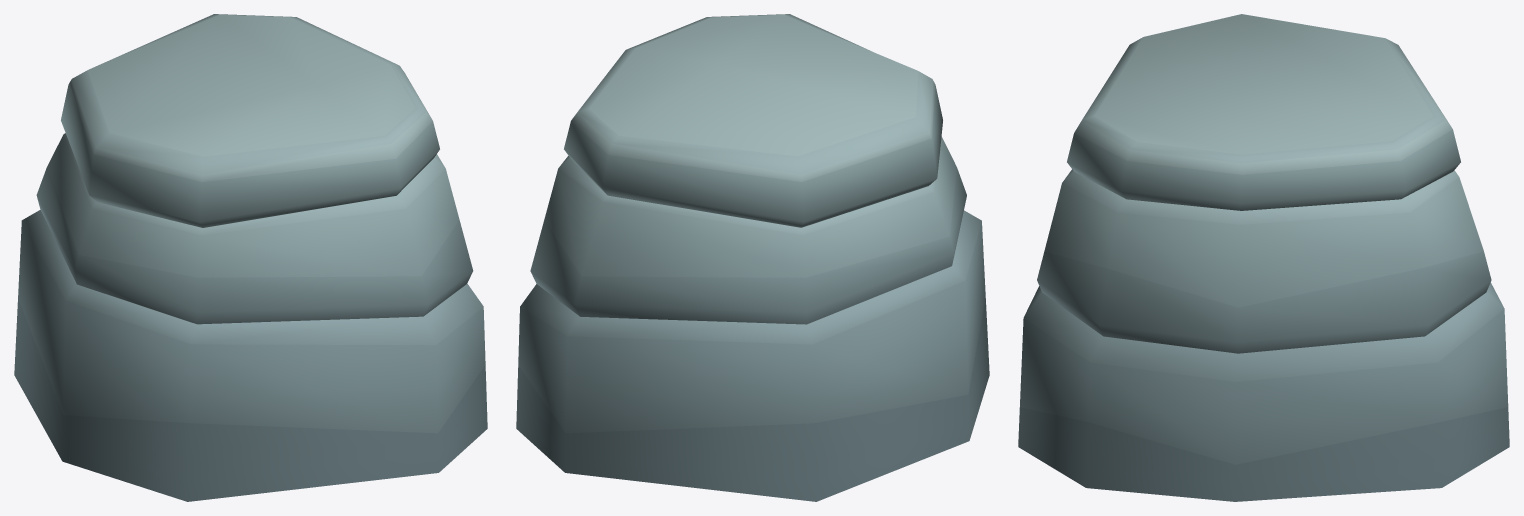
File: rock 01_toon_material_0.001.glb
The picture shows the model from 3 angles, left to right: view 1: azimuth 30°, elevation 25°; view 2: azimuth 150°, elevation 25°; view 3: azimuth 270°, elevation 25°; orthographic projection. The views are drawn at different scales.
Parts seen in each view (by area): view 1: rock 01_toon_material_0.001; view 2: rock 01_toon_material_0.001; view 3: rock 01_toon_material_0.001.
Part boxes in pixels (<box>): rock 01_toon_material_0.001: <box>14,14,487,501</box>; rock 01_toon_material_0.001: <box>516,14,989,501</box>; rock 01_toon_material_0.001: <box>1018,14,1509,501</box>.
Bounding box in the file's own units: 2.53 × 2 × 2.76.
Materials: 1 (1 with a texture image).
